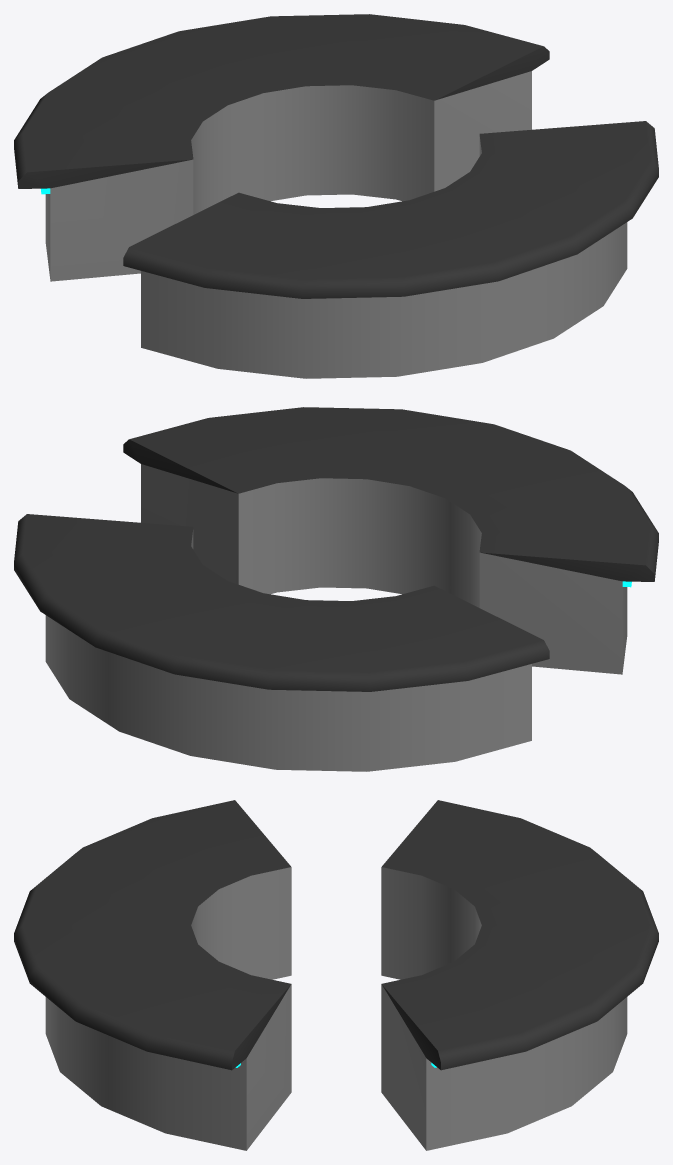
Rendered from Bar_02.fbx.
3 views of the same model, one above another, from view 1: azimuth 30°, elevation 25°; view 2: azimuth 150°, elevation 25°; view 3: azimuth 270°, elevation 25° (orthographic).
Parts seen in each view (by area): view 1: Commons_Bar_02; view 2: Commons_Bar_02; view 3: Commons_Bar_02.
Part boxes in pixels (left/top/right/bottom): Commons_Bar_02: left=14, top=14, right=658, bottom=378; Commons_Bar_02: left=14, top=407, right=658, bottom=771; Commons_Bar_02: left=14, top=800, right=658, bottom=1150.
Bounding box in the file's own units: 1684 × 331 × 1780.
